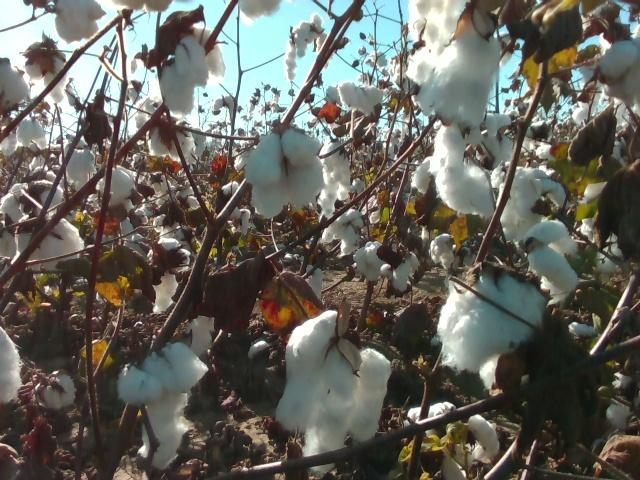cotton_ready: (274, 307, 390, 473), (439, 274, 549, 391), (117, 344, 209, 470), (414, 30, 501, 131), (433, 110, 515, 216), (404, 402, 501, 480), (244, 128, 326, 218), (160, 26, 228, 113), (0, 179, 66, 259), (498, 168, 565, 244), (583, 141, 634, 231), (15, 212, 86, 276), (521, 220, 578, 299), (595, 37, 640, 106), (574, 215, 628, 272), (150, 238, 190, 314), (596, 364, 637, 435), (353, 244, 419, 288), (406, 0, 467, 46), (321, 139, 355, 217), (96, 166, 149, 216), (324, 82, 385, 121), (27, 47, 68, 101), (56, 0, 106, 43), (323, 207, 366, 257), (150, 119, 196, 162), (0, 324, 22, 411), (0, 119, 45, 157), (61, 149, 98, 193), (0, 56, 29, 111), (32, 375, 76, 408), (237, 0, 280, 21), (113, 0, 170, 12)
